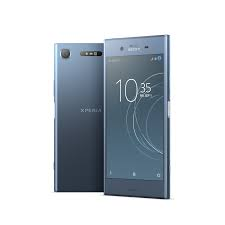sony: (103, 35, 171, 200), (52, 38, 113, 193)
